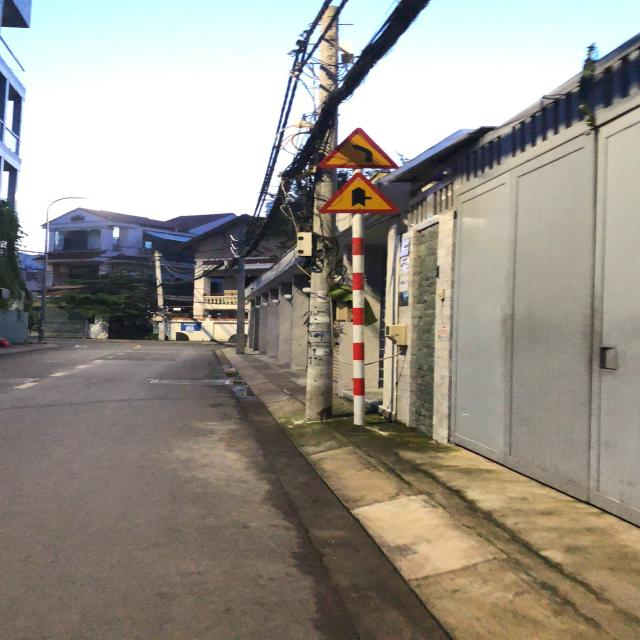Bien bao cho ngoat nguy hiem: (300, 118, 408, 169)
Bien bao giao nhau voi duong khong uu tien: (310, 173, 406, 216)
